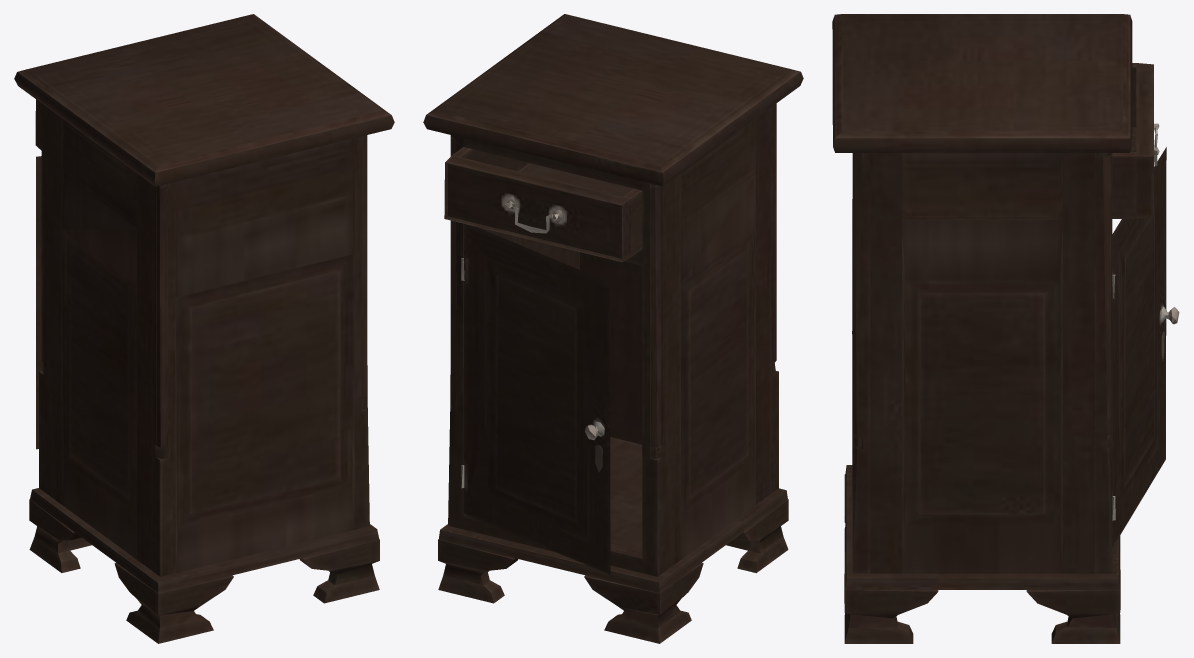
The model's file is cabinet-cupboard-small.lod1.glb.
3 renders of one model, left to right at view 1: azimuth 30°, elevation 25°; view 2: azimuth 150°, elevation 25°; view 3: azimuth 270°, elevation 25°, orthographic. The views are drawn at different scales.
Visible parts, largest first — view 1: cabinet-cupboard-small; view 2: cabinet-cupboard-small; view 3: cabinet-cupboard-small.
Boxes of the visible parts, <box> form: cabinet-cupboard-small: <box>14,14,394,643</box>; cabinet-cupboard-small: <box>423,14,803,643</box>; cabinet-cupboard-small: <box>832,14,1179,643</box>.
Bounding box in the file's own units: 0.4302 × 0.8202 × 0.5025.
1 material, 1 textured.
